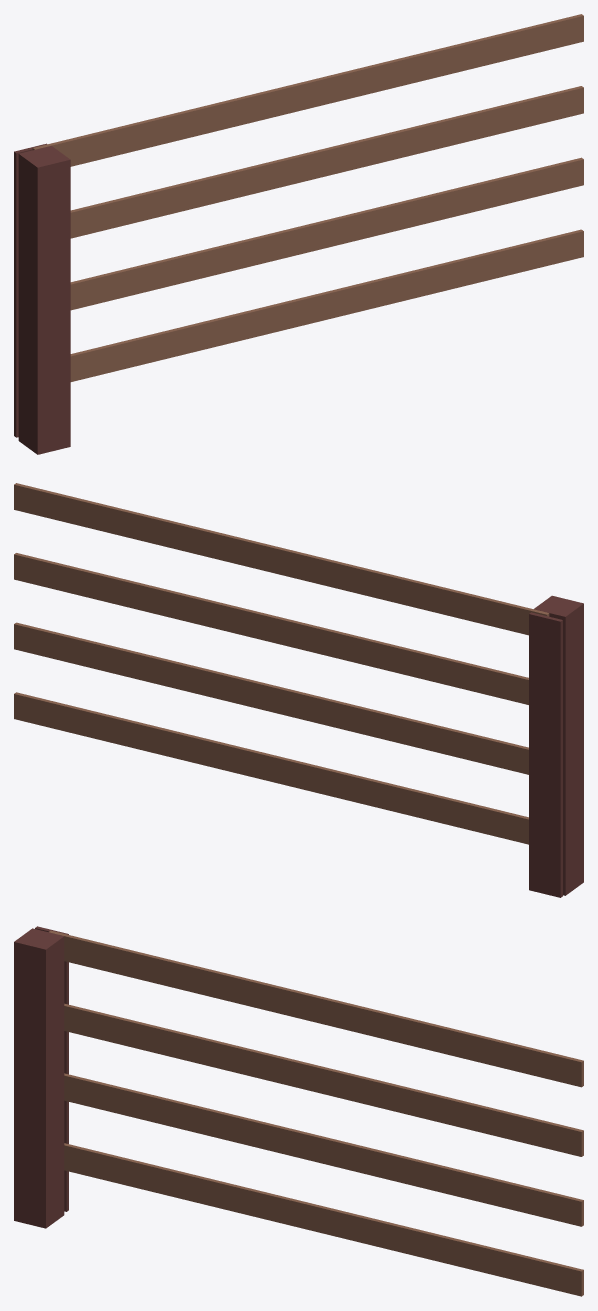
File: Fence Side.fbx
The picture shows the model from 3 angles, top to bottom: view 1: azimuth 30°, elevation 25°; view 2: azimuth 150°, elevation 25°; view 3: azimuth 330°, elevation 25°; orthographic projection. The views are drawn at different scales.
Visible parts, largest first — view 1: Fence Corner; view 2: Fence Corner; view 3: Fence Corner.
Part boxes in pixels (x1,y1,x2,y2): Fence Corner: (14,14,583,454); Fence Corner: (14,483,583,897); Fence Corner: (14,926,583,1296).
Size of the model in its own units: 15.06 by 206 by 100.
